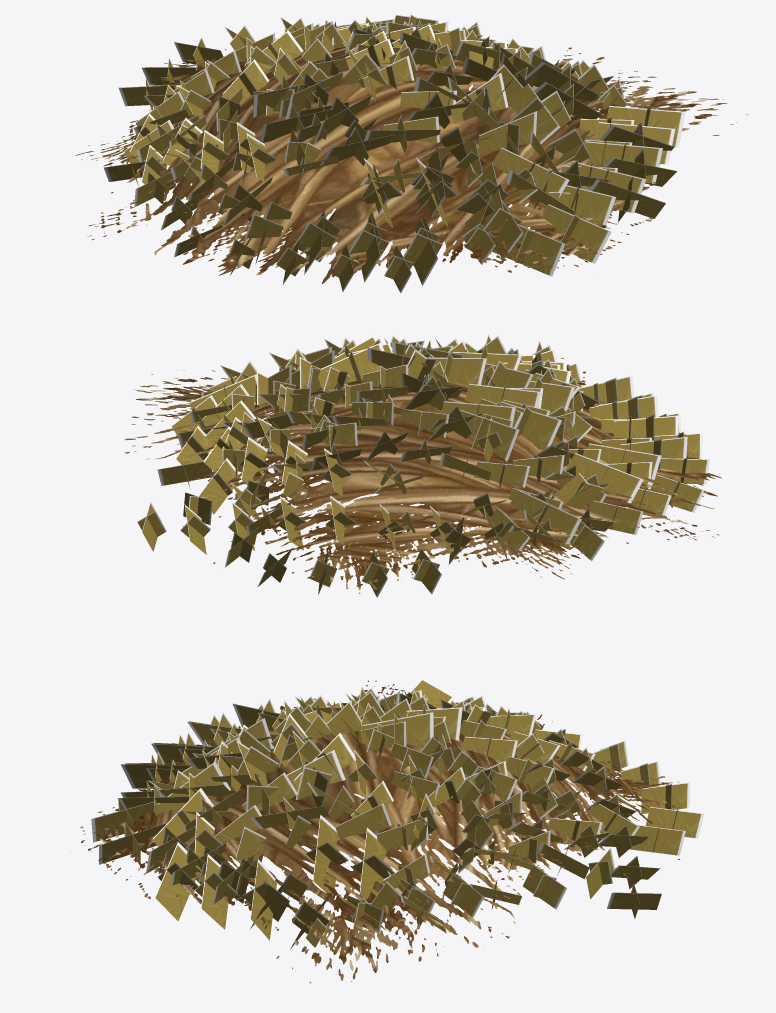
The model's file is hay_pile.fbx.
The picture shows the model from 3 angles, top to bottom: view 1: azimuth 30°, elevation 25°; view 2: azimuth 150°, elevation 25°; view 3: azimuth 270°, elevation 25°; orthographic projection. The views are drawn at different scales.
Visible parts, largest first — view 1: Hay_Pile, Plane175, Plane174, Plane128, Plane167, Plane169, Plane127, Plane165, Plane130, Plane158, Plane162, Plane170 (+67 smaller); view 2: Hay_Pile, Plane142, Plane140, Plane160, Plane150, Plane149, Plane145, Plane123, Plane154, Plane161, Plane098, Plane159 (+52 smaller); view 3: Hay_Pile, Plane158, Plane171, Plane170, Plane157, Plane174, Plane156, Plane147, Plane102, Plane175, Plane101, Plane103 (+56 smaller).
Boxes of the visible parts, left/top/right/bottom form: Hay_Pile: left=75, top=46, right=748, bottom=283; Plane175: left=534, top=204, right=611, bottom=263; Plane174: left=492, top=219, right=565, bottom=276; Plane128: left=478, top=111, right=537, bottom=155; Plane167: left=584, top=141, right=662, bottom=183; Plane169: left=607, top=105, right=685, bottom=147; Plane127: left=492, top=147, right=569, bottom=198; Plane165: left=531, top=185, right=615, bottom=228; Plane130: left=507, top=83, right=560, bottom=144; Plane158: left=589, top=176, right=665, bottom=222; Plane162: left=403, top=219, right=442, bottom=285; Plane170: left=525, top=62, right=598, bottom=104; Hay_Pile: left=124, top=358, right=721, bottom=593; Plane142: left=566, top=453, right=643, bottom=507; Plane140: left=510, top=489, right=581, bottom=548; Plane160: left=613, top=414, right=678, bottom=440; Plane150: left=500, top=401, right=561, bottom=450; Plane149: left=460, top=409, right=519, bottom=461; Plane145: left=465, top=383, right=541, bottom=407; Plane123: left=426, top=351, right=486, bottom=385; Plane154: left=318, top=342, right=385, bottom=391; Plane161: left=598, top=395, right=658, bottom=430; Plane098: left=198, top=458, right=241, bottom=514; Plane159: left=620, top=436, right=687, bottom=470; Hay_Pile: left=70, top=680, right=679, bottom=983; Plane158: left=155, top=842, right=198, bottom=921; Plane171: left=305, top=815, right=348, bottom=895; Plane170: left=352, top=827, right=394, bottom=899; Plane157: left=195, top=854, right=237, bottom=929; Plane174: left=91, top=798, right=155, bottom=842; Plane156: left=242, top=859, right=276, bottom=940; Plane147: left=361, top=712, right=433, bottom=748; Plane102: left=645, top=807, right=703, bottom=838; Plane175: left=99, top=821, right=166, bottom=864; Plane101: left=629, top=824, right=685, bottom=855; Plane103: left=641, top=782, right=689, bottom=813.
Size of the model in its own units: 61.72 by 10.53 by 57.12.
